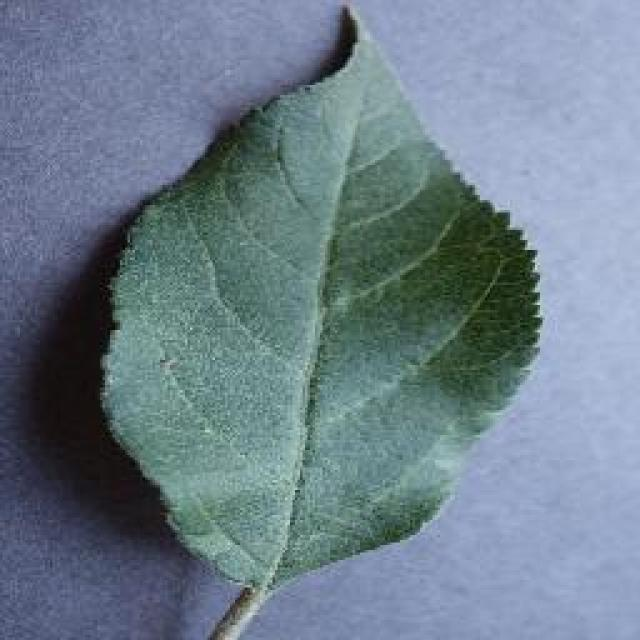apple healthy: (95, 0, 545, 598)
